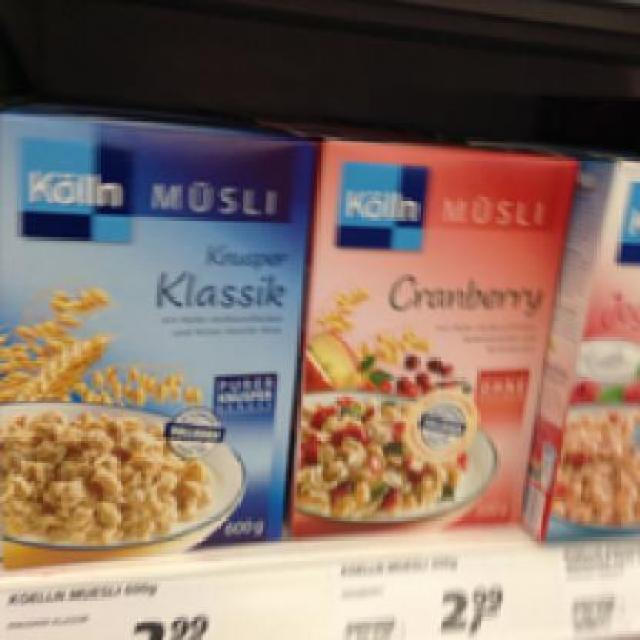Cereal: (0, 107, 312, 569), (292, 114, 574, 537)
